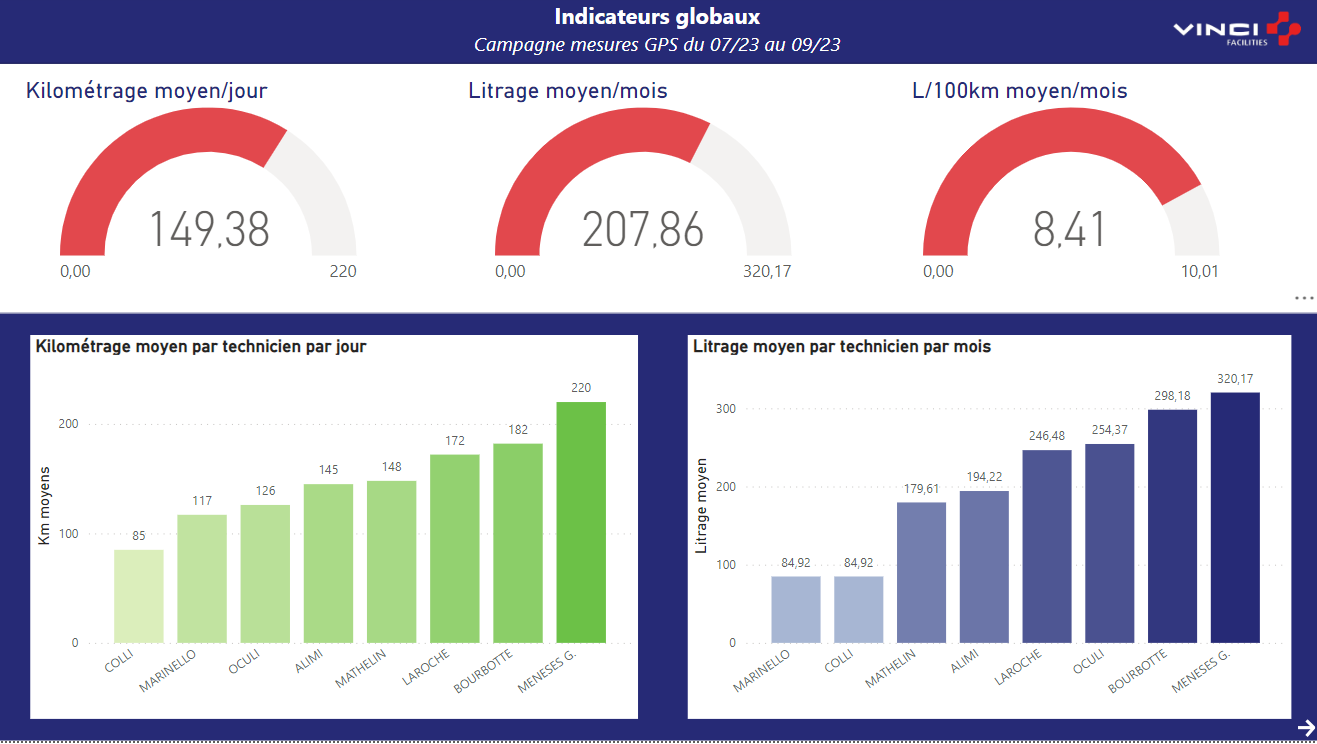

Layout of this report page (visuals, bound fields, positions):
{"tool":"powerbi","page":{"name":"Indicateurs globaux","canvas":[1280,720],"ordinal":1},"visuals":[{"type":"shape","box":[0,0,1279.6,66.3],"z":0},{"type":"textbox","box":[0,0,1279.6,66.3],"z":1000},{"type":"image","box":[1118,0,161.6,66.3],"z":2000},{"type":"gauge","title":"Kilométrage moyen/jour","fields":{"Y":["Avg(BDD.mean km)"],"MaxValue":["BDD.Max mean km"]},"box":[25.3,79.6,363,208.6],"z":3000},{"type":"gauge","title":"Litrage moyen/mois","fields":{"Y":["Avg(BDD.Moyenne Litrage)"],"MaxValue":["BDD.Max mean litr"]},"box":[452.3,79.6,348.5,208.6],"z":4000},{"type":"gauge","title":"L/100km moyen/mois","fields":{"MaxValue":["BDD.Max mean L/100km"],"Y":["Avg(BDD.Moyenne L/100km)"]},"box":[880.4,79.6,318.4,208.6],"z":5000},{"type":"shape","box":[0,306.3,1279.6,413.7],"z":6000},{"type":"columnChart","title":"Kilométrage moyen par technicien par jour","fields":{"Category":["Sheet1.nom"],"Y":["Sum(Sheet1.mean km)"]},"box":[35,328,586.1,370.3],"z":7000},{"type":"columnChart","title":"Litrage moyen par technicien par mois","fields":{"Category":["Sheet1.nom"],"Y":["Sum(Sheet1.Moyenne Litrage)"]},"box":[669.3,328,582.5,370.3],"z":8000},{"type":"actionButton","box":[1253.6,694.5,26.4,25.5],"z":9000}]}

Visuals, with their boxes in screenshot pixels (x1, y1, x2, y2), scaled from the page's 1280x720 canvas onto the 1317x744 screenshot:
shape: 0,0,1316,69
textbox: 0,0,1316,69
image: 1150,0,1316,69
"Kilométrage moyen/jour" gauge: 26,82,400,298
"Litrage moyen/mois" gauge: 465,82,824,298
"L/100km moyen/mois" gauge: 906,82,1233,298
shape: 0,317,1316,743
"Kilométrage moyen par technicien par jour" columnChart: 36,339,639,722
"Litrage moyen par technicien par mois" columnChart: 689,339,1288,722
actionButton: 1290,718,1316,743
